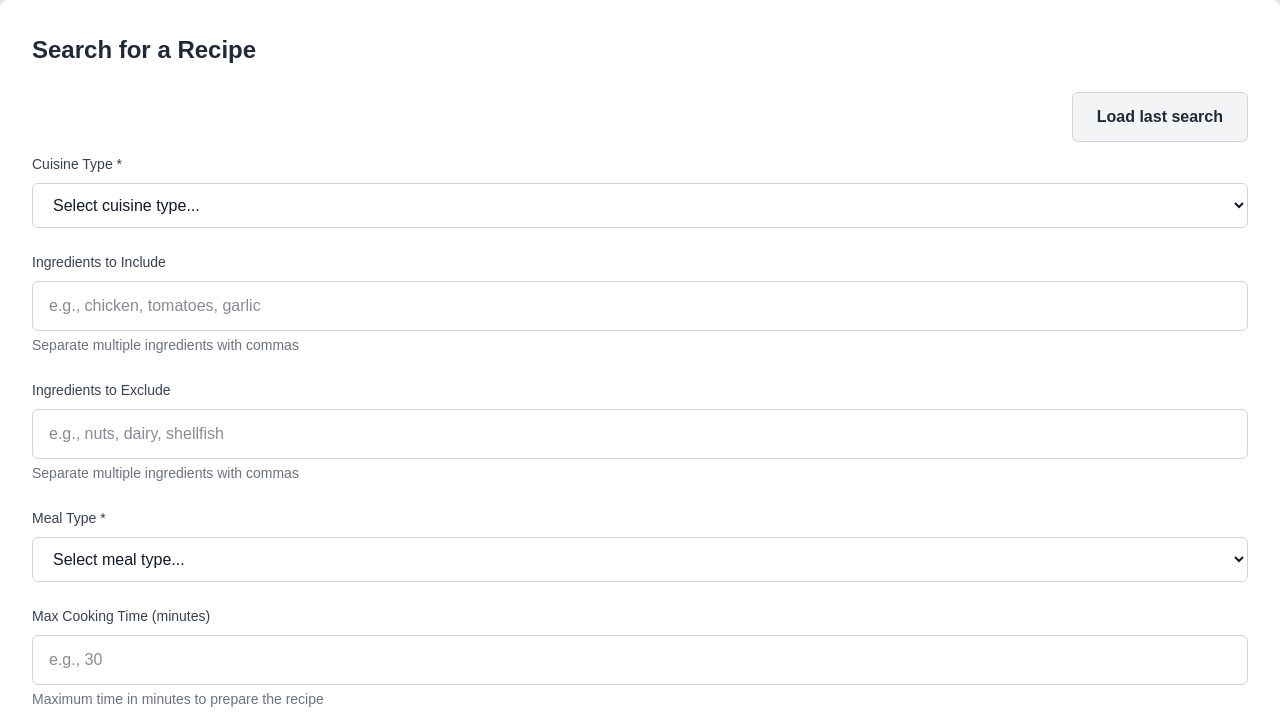
Test case: RecipeSearchForm › loads previous filters into the form when requested
Click the button with aria-label "Restore your previous search criteria". click: (1160, 117)
box: [1072,92,1248,142]
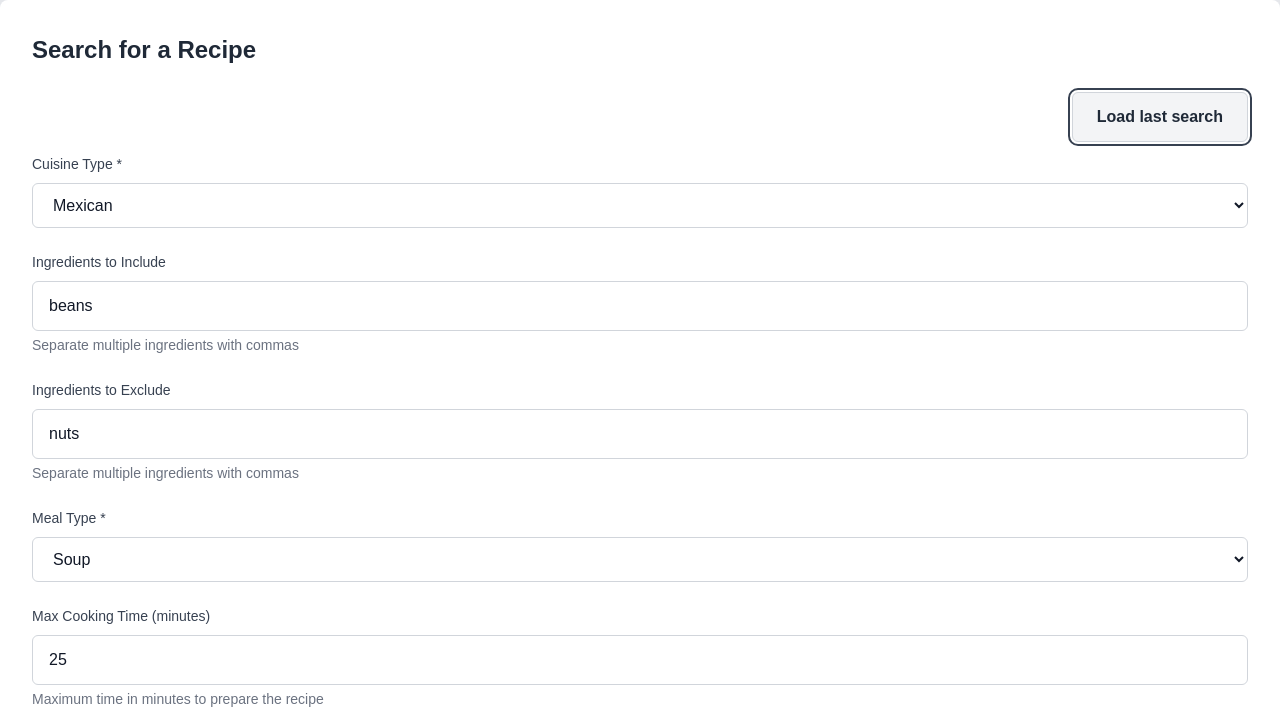
Result: the dropdown labelled "Cuisine Type *" shows "Mexican" at [32,183,1248,228]
Result: the field labelled "Ingredients to Include" holds "beans" at [32,281,1248,331]
Result: the field labelled "Ingredients to Exclude" holds "nuts" at [32,409,1248,459]
